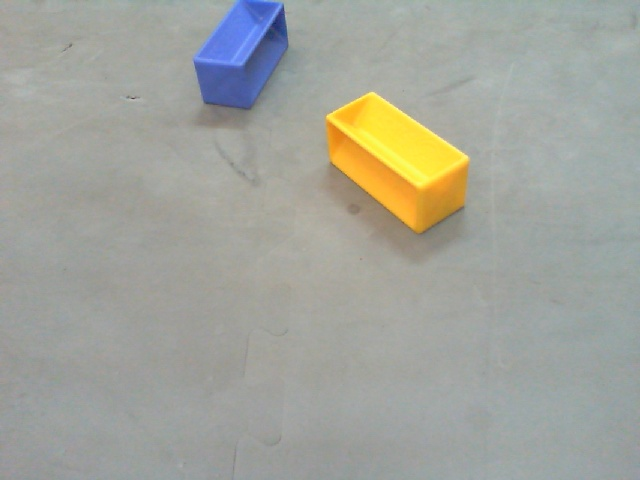BlueSample: (190, 1, 289, 111)
YellowSample: (321, 90, 470, 239)
